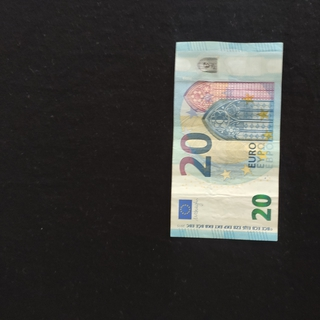20EUROFront: (169, 41, 284, 242)
